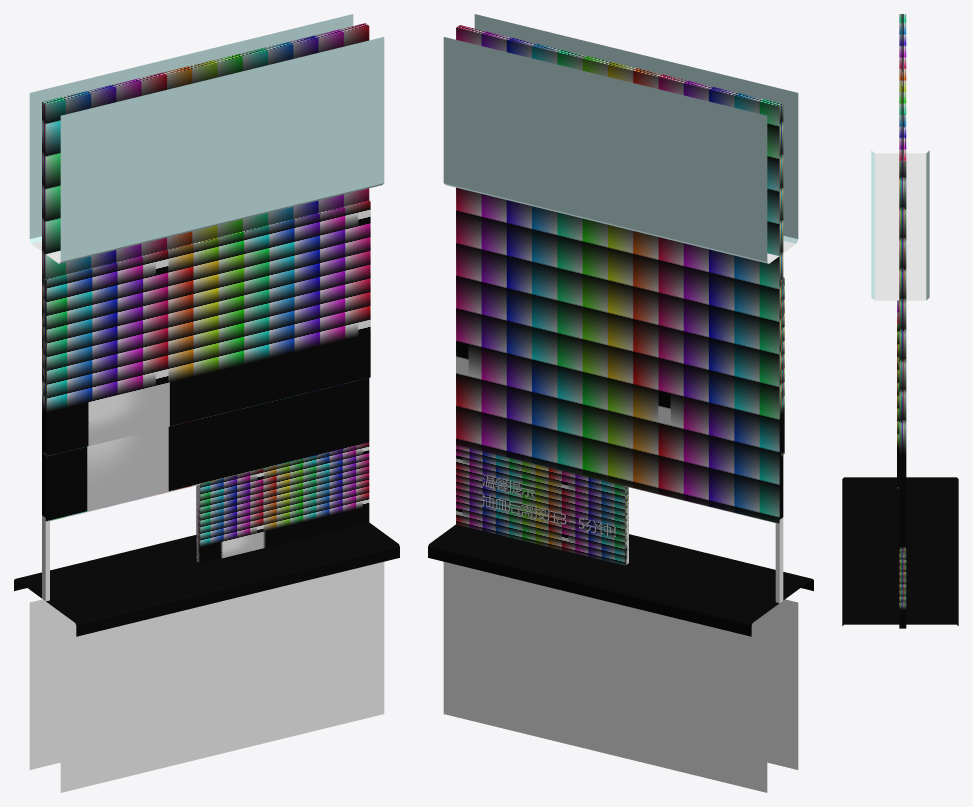
The model's file is windowWall_window_1.fbx.
The picture shows the model from 3 angles, left to right: view 1: azimuth 30°, elevation 25°; view 2: azimuth 150°, elevation 25°; view 3: azimuth 270°, elevation 25°; orthographic projection. The views are drawn at different scales.
Parts seen in each view (by area): view 1: windowWall_window_1, trigger_2, trigger_1, trigger_3; view 2: windowWall_window_1, trigger_1, trigger_3, trigger_2; view 3: windowWall_window_1, trigger_1, trigger_3, trigger_2.
Boxes of the visible parts, x1,y1,x2,y2 form: windowWall_window_1: [14, 14, 399, 792]; trigger_2: [43, 200, 370, 456]; trigger_1: [42, 23, 369, 521]; trigger_3: [196, 443, 369, 563]; windowWall_window_1: [428, 14, 813, 792]; trigger_1: [456, 25, 783, 523]; trigger_3: [456, 444, 628, 565]; trigger_2: [781, 277, 784, 455]; windowWall_window_1: [842, 150, 958, 625]; trigger_1: [899, 14, 906, 550]; trigger_3: [899, 550, 906, 628]; trigger_2: [897, 300, 899, 488].
Size of what is drawn, in the model's own units: 150 by 300 by 50.
Materials: 2 (2 with a texture image).
